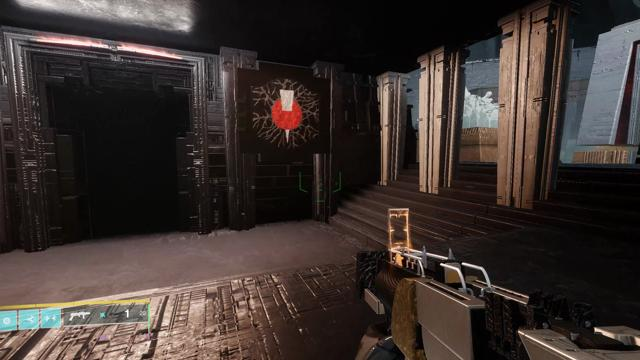kill: (252, 77, 319, 148)
